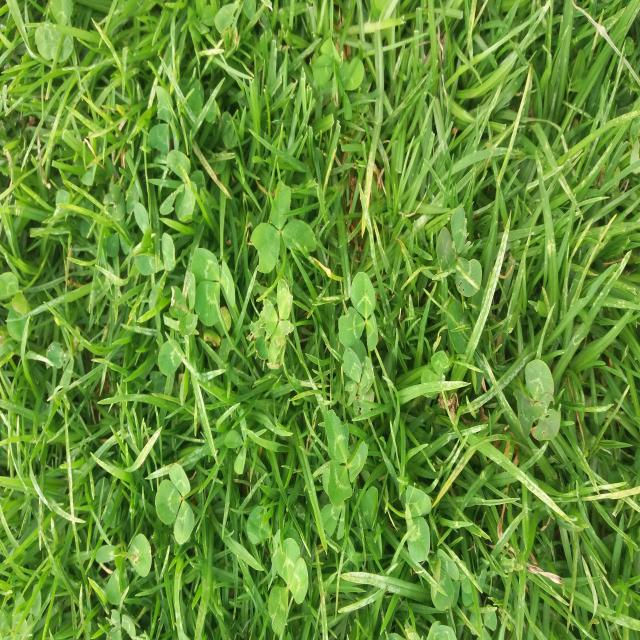Four Leaf Clover: (342, 347, 374, 415)
